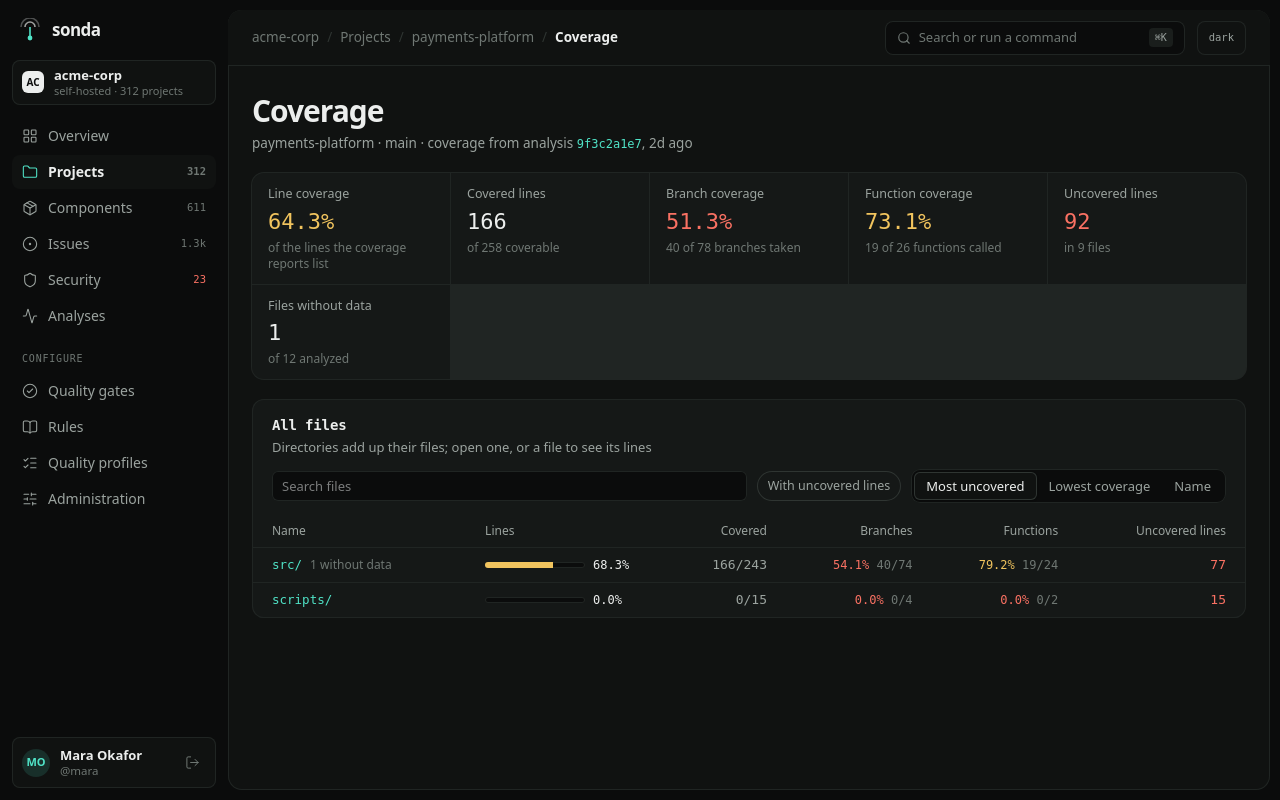
Coverage › searches files across directories and keeps only those with gaps
In the search field labelled "Search files": [509, 486] box [272,471,747,501], type "auth"
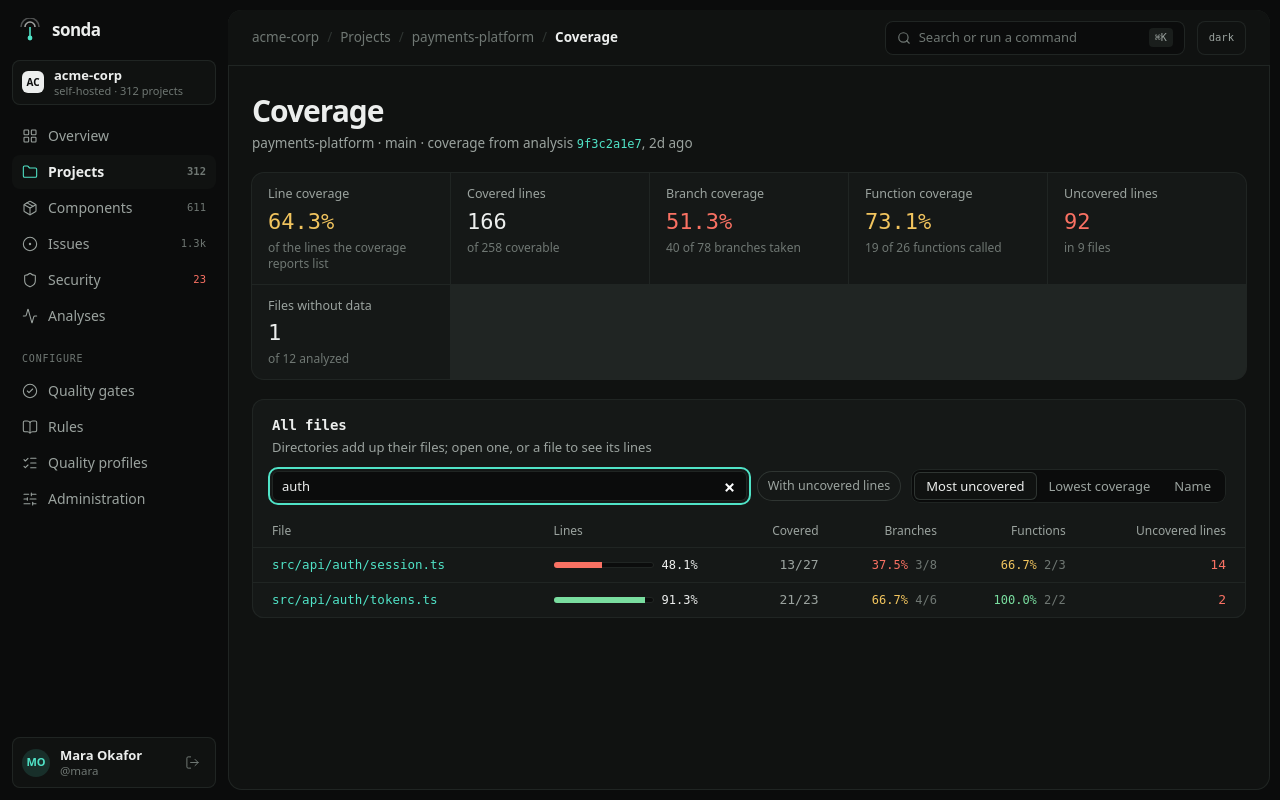
Clear the search field named "Search files": [509, 486] box [272,471,747,501]
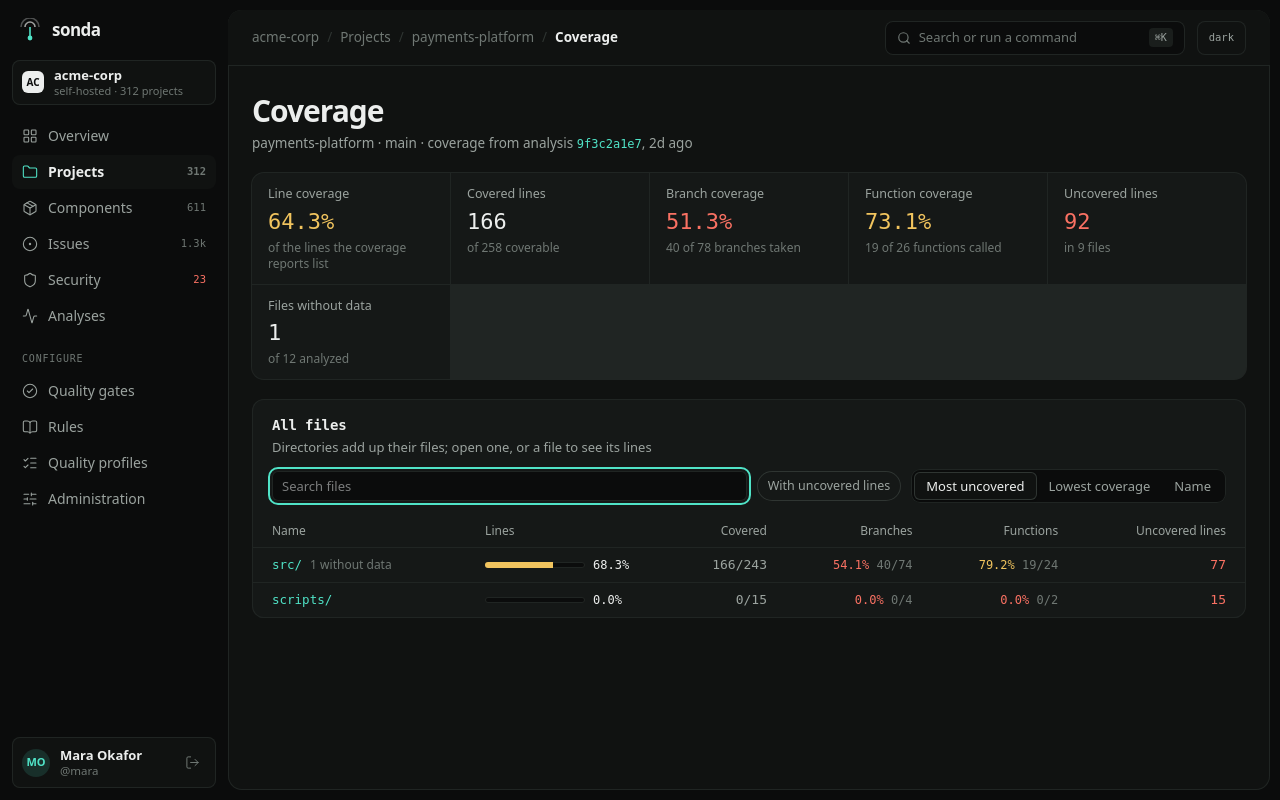
Click the button "With uncovered lines": [829, 486] box [757,471,901,501]
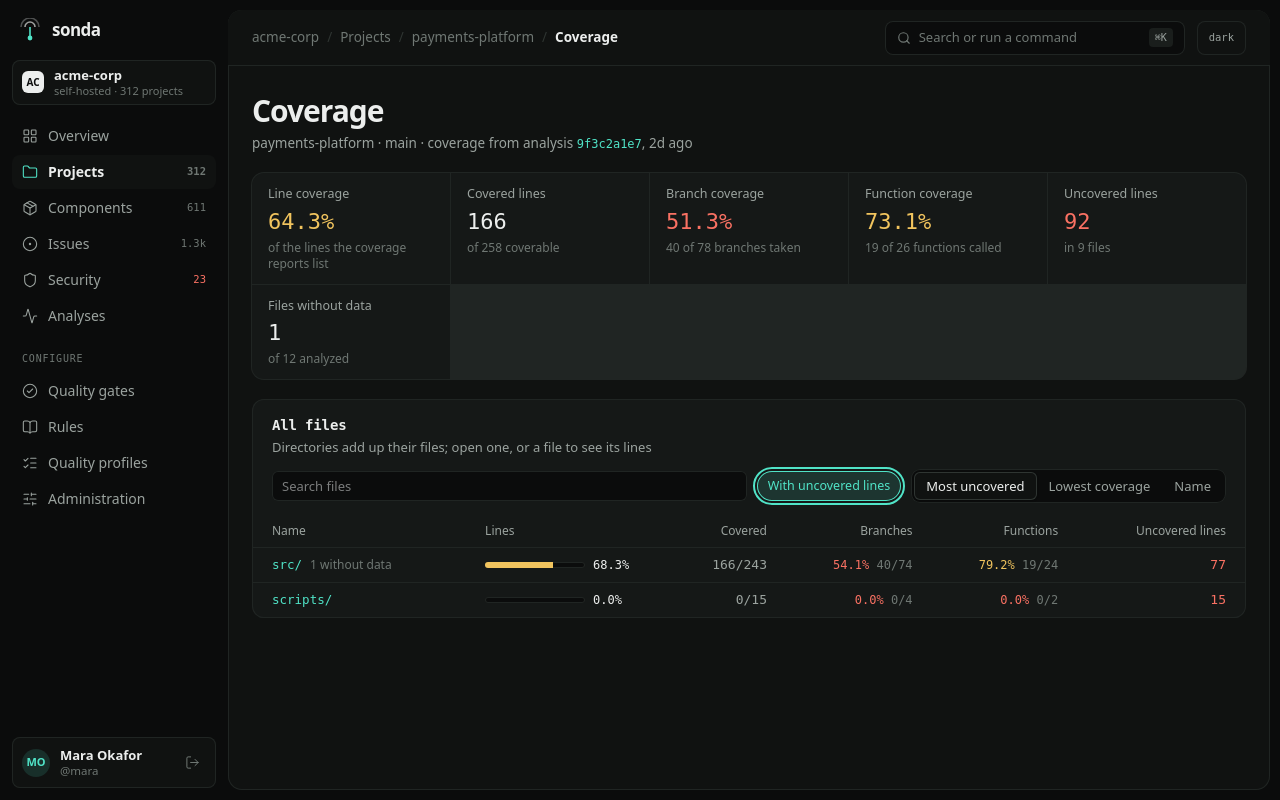
Click the link "src/": [283, 565] box [272,557,302,572]
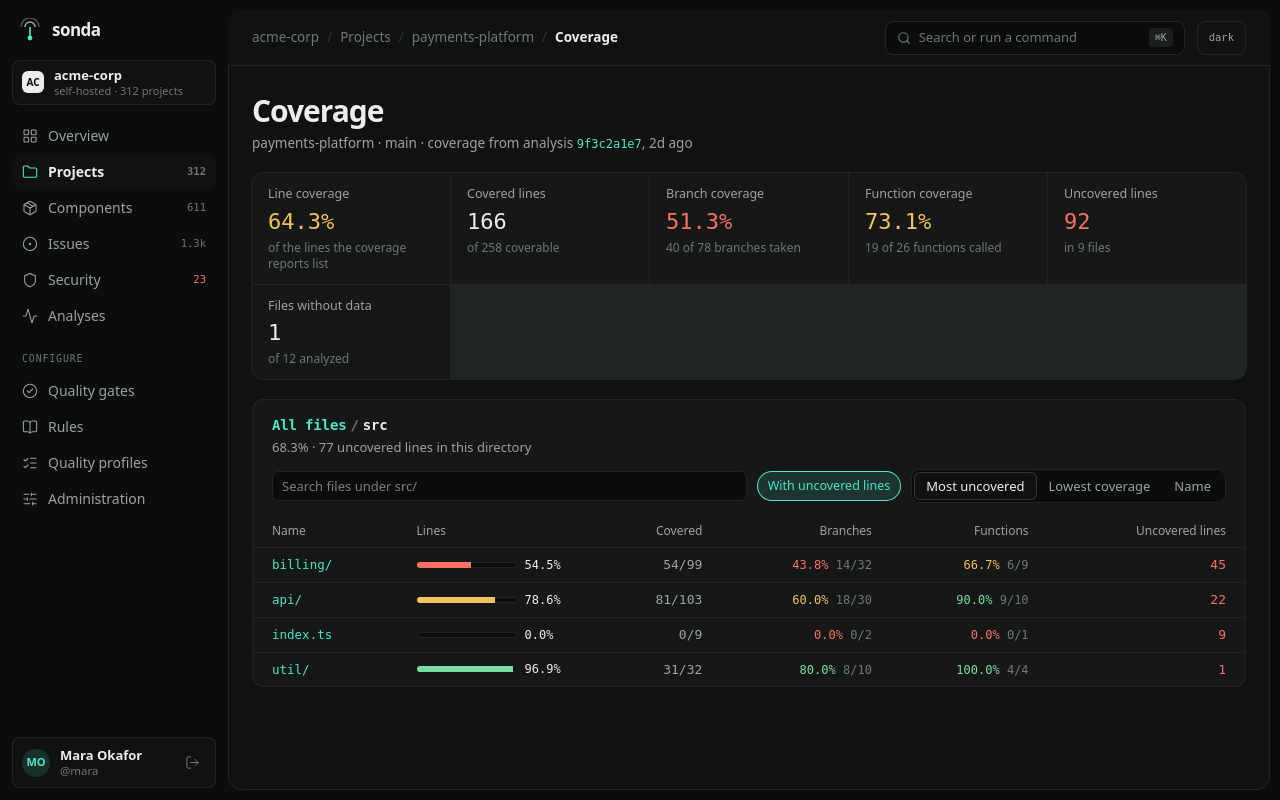
Expected: the link "index.ts" is shown, [272,627,332,642]
